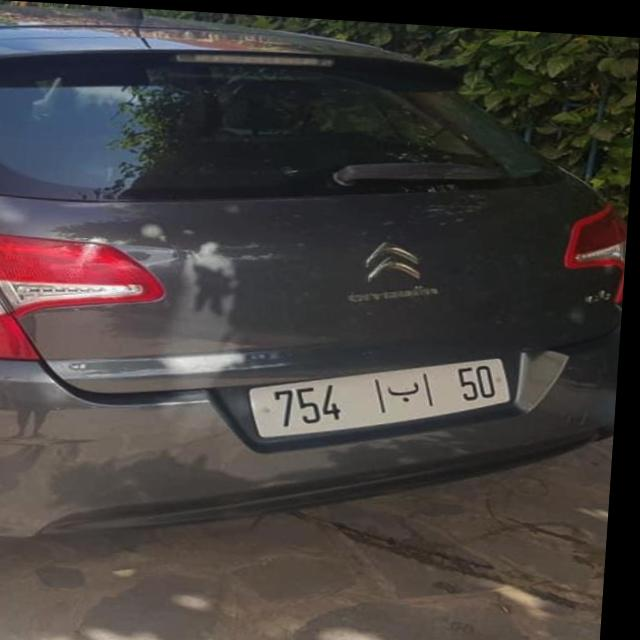License-Plate: (254, 352, 515, 434)
